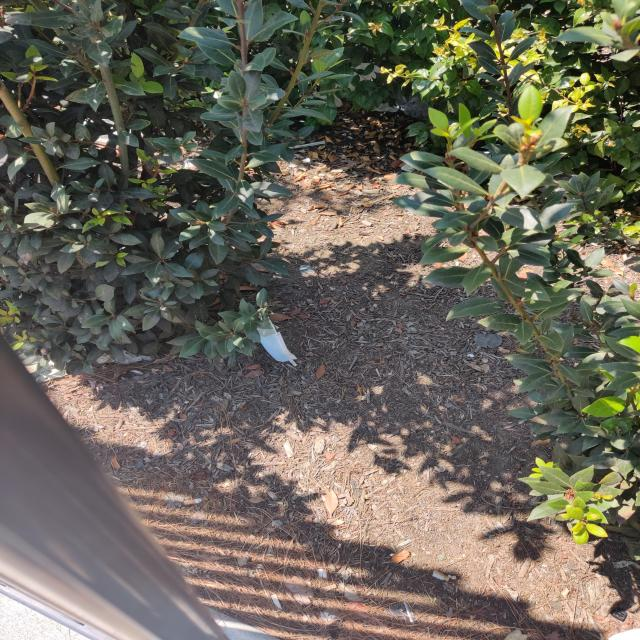litter: (255, 313, 302, 368)
